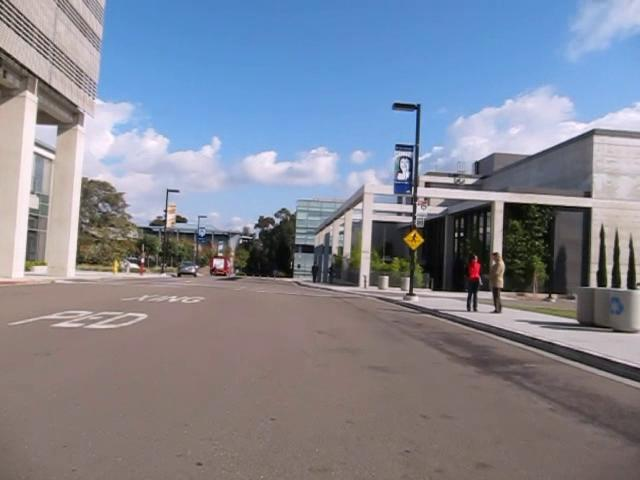pedestrianCrossing: (402, 228, 425, 251)
